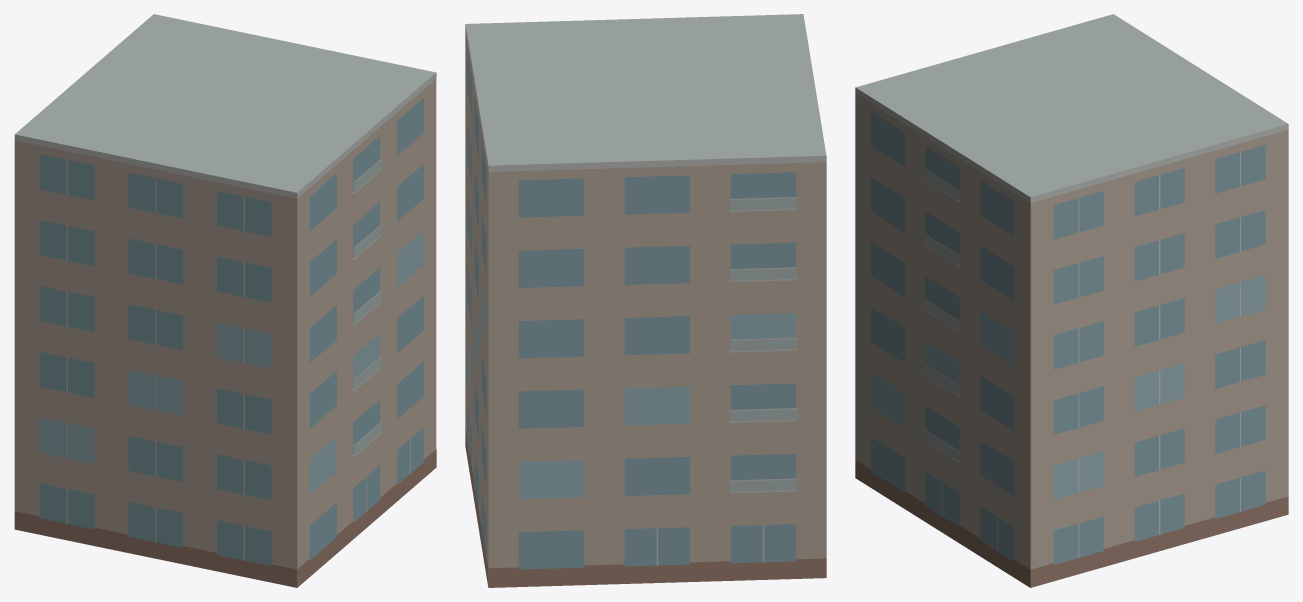
File: survey-upis-32891774.glb
3 views of the same model, side by side, from view 1: azimuth 30°, elevation 25°; view 2: azimuth 150°, elevation 25°; view 3: azimuth 270°, elevation 25° (orthographic). The views are drawn at different scales.
Parts seen in each view (by area): view 1: survey-upis-32891774.tmp; view 2: survey-upis-32891774.tmp; view 3: survey-upis-32891774.tmp.
Part boxes in pixels (x1,y1,x2,y2): survey-upis-32891774.tmp: (14, 14, 436, 587); survey-upis-32891774.tmp: (465, 14, 826, 587); survey-upis-32891774.tmp: (855, 14, 1288, 587).
Bounding box in the file's own units: 16.31 × 16.2 × 16.29.
